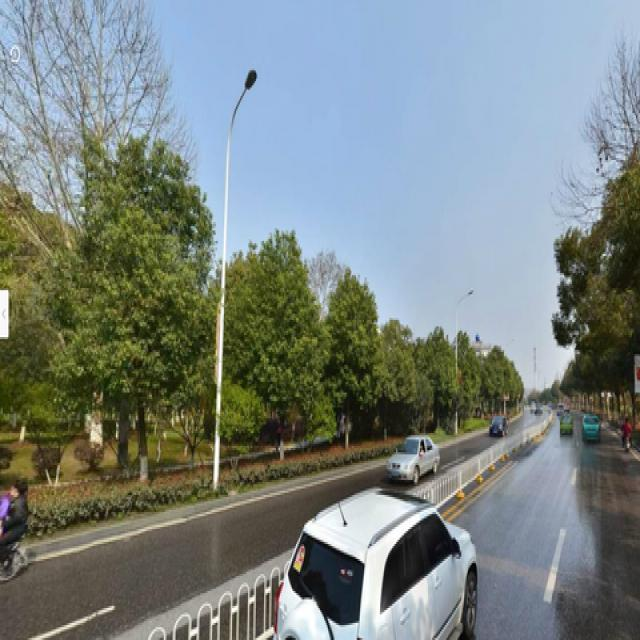cinn: (91, 222, 173, 482), (236, 254, 307, 469)
